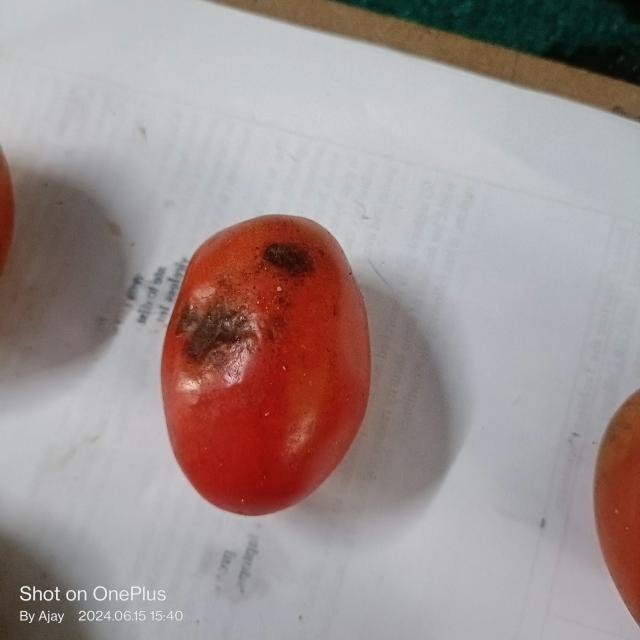Botrytis: (175, 292, 259, 362), (261, 240, 317, 276)
